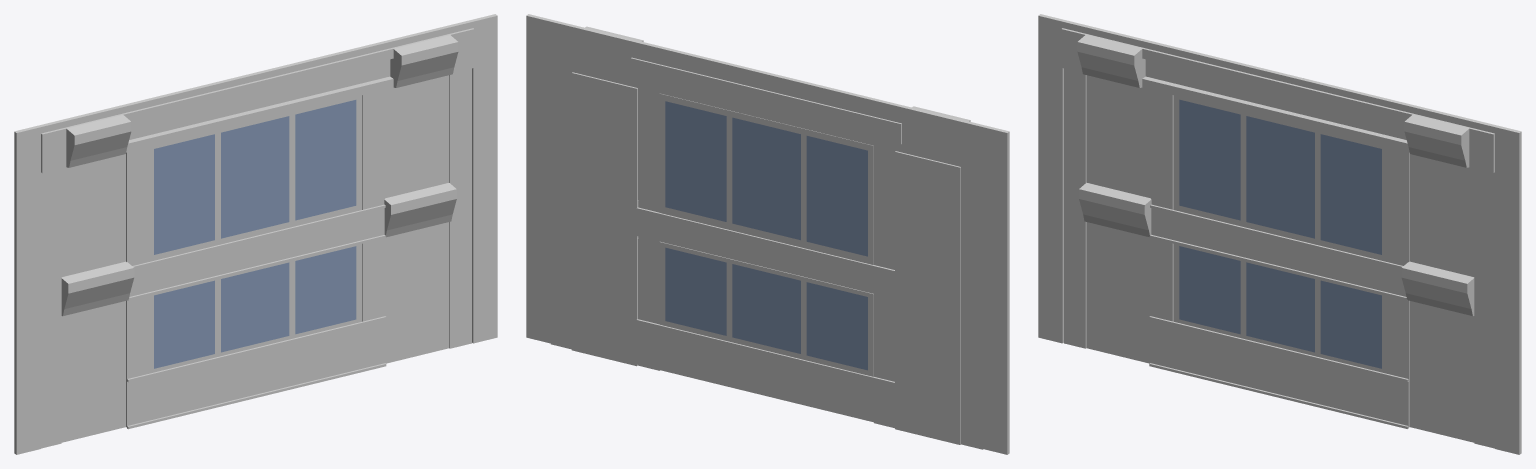
Rendered from Window.fbx.
The picture shows the model from 3 angles, left to right: view 1: azimuth 30°, elevation 25°; view 2: azimuth 150°, elevation 25°; view 3: azimuth 330°, elevation 25°; orthographic projection.
Visible parts, largest first — view 1: Plane; view 2: Plane; view 3: Plane.
Boxes of the visible parts, bbox=[...] form: Plane: bbox=[14, 14, 497, 454]; Plane: bbox=[526, 14, 1009, 454]; Plane: bbox=[1038, 14, 1521, 454].
Bounding box in the file's own units: 1000 × 641 × 46.37.
